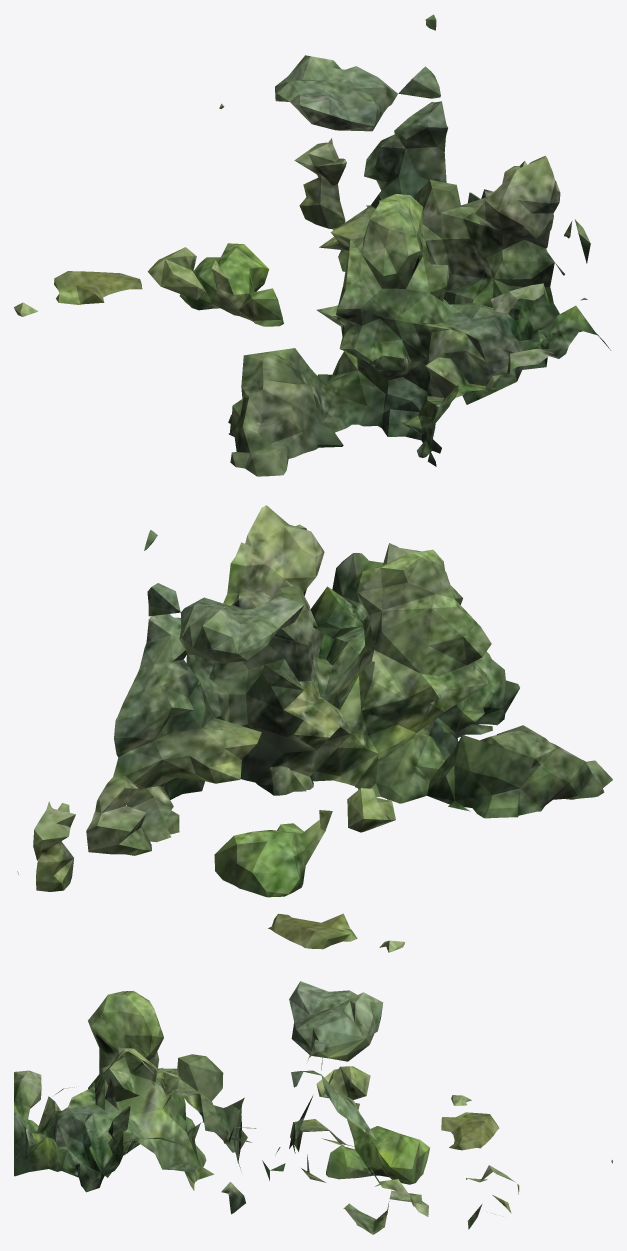
3 views of the same model, one above another, from view 1: azimuth 30°, elevation 25°; view 2: azimuth 150°, elevation 25°; view 3: azimuth 270°, elevation 25° (orthographic). The views are drawn at different scales.
Size of the model in its own units: 28.63 by 22.77 by 52.22.
Materials: 2 (2 with a texture image).
